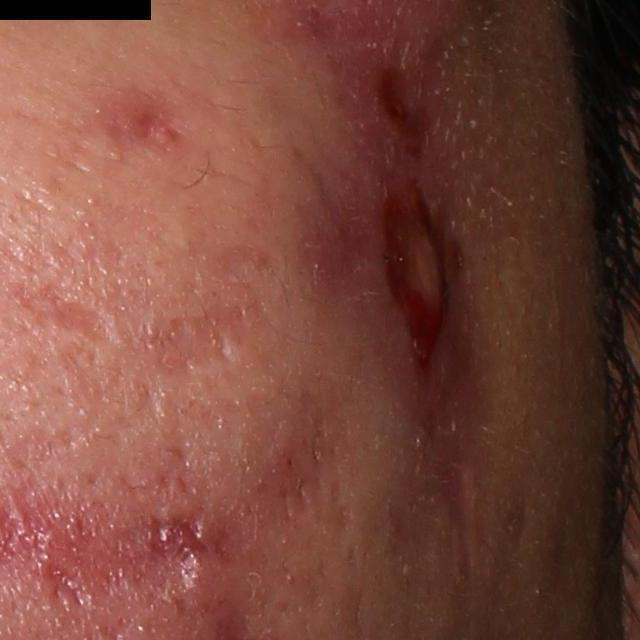atrophic_scar: (139, 301, 279, 383), (431, 437, 483, 591), (6, 278, 119, 347), (119, 95, 191, 156), (504, 471, 532, 549)
